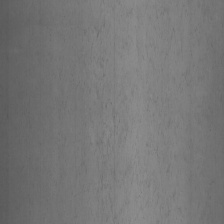silk_spot: (130, 9, 219, 220), (83, 5, 127, 211)
